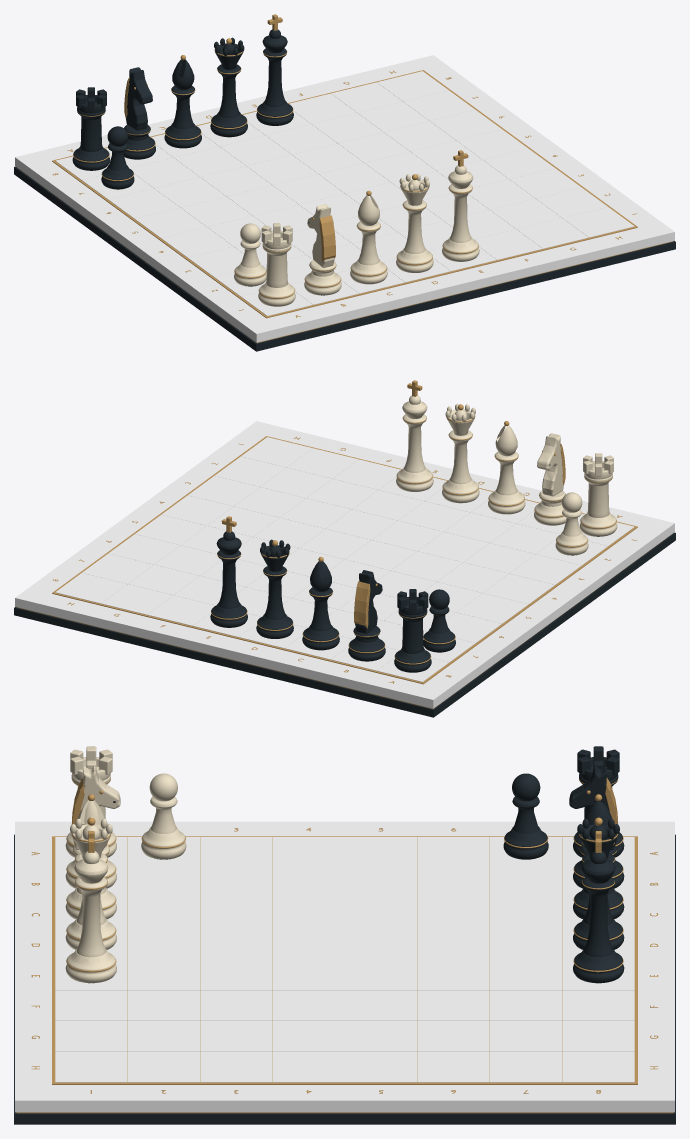
File: chess-set.glb
3 views of the same model, one above another, from view 1: azimuth 30°, elevation 25°; view 2: azimuth 150°, elevation 25°; view 3: azimuth 270°, elevation 25° (orthographic). The views are drawn at different scales.
Parts seen in each view (by area): view 1: Solid walnut frame, Lower plinth, Inlaid brass surround, White Knight | b1, White Rook | a1, Black Queen | d8, White Queen | d1, Black Rook | a8, Black King | e8, White King | e1, Black Knight | b8, White Bishop | c1 (+64 smaller); view 2: Solid walnut frame, Lower plinth, Inlaid brass surround, Black Knight | b8, Black Rook | a8, White Queen | d1, Black Queen | d8, White Rook | a1, White King | e1, Black King | e8, White Knight | b1, White Bishop | c1 (+64 smaller); view 3: Solid walnut frame, Lower plinth, Inlaid brass surround, Black King | e8, White King | e1, Black Pawn | a7, White Pawn | a2, Square h1, Square h2, Square h3, Square h4, Square h5 (+68 smaller).
Part boxes in pixels (x1,y1,x2,y2): Solid walnut frame: [15, 55, 674, 342]; Lower plinth: [14, 166, 675, 351]; Inlaid brass surround: [52, 70, 637, 318]; White Knight | b1: [304, 204, 341, 295]; White Rook | a1: [258, 223, 295, 306]; Black Queen | d8: [210, 37, 247, 137]; White Queen | d1: [396, 173, 433, 272]; Black Rook | a8: [72, 87, 109, 170]; Black King | e8: [256, 14, 293, 125]; White King | e1: [442, 150, 479, 261]; Black Knight | b8: [123, 67, 155, 159]; White Bishop | c1: [350, 191, 387, 284]; Solid walnut frame: [15, 421, 674, 708]; Lower plinth: [14, 532, 675, 717]; Inlaid brass surround: [52, 436, 637, 684]; Black Knight | b8: [348, 570, 385, 661]; Black Rook | a8: [394, 589, 431, 672]; White Queen | d1: [442, 403, 479, 503]; Black Queen | d8: [256, 539, 293, 638]; White Rook | a1: [580, 453, 617, 536]; White King | e1: [396, 380, 433, 491]; Black King | e8: [210, 516, 247, 627]; White Knight | b1: [534, 433, 566, 525]; White Bishop | c1: [488, 421, 525, 514]; Solid walnut frame: [15, 821, 674, 1112]; Lower plinth: [14, 834, 675, 1124]; Inlaid brass surround: [52, 836, 637, 1084]; Black King | e8: [573, 831, 624, 983]; White King | e1: [65, 831, 116, 983]; Black Pawn | a7: [503, 773, 548, 859]; White Pawn | a2: [141, 773, 186, 859]; Square h1: [55, 1051, 127, 1082]; Square h2: [127, 1051, 199, 1082]; Square h3: [200, 1051, 272, 1082]; Square h4: [272, 1051, 344, 1082]; Square h5: [345, 1051, 417, 1082].
Size of the model in its own units: 10.05 by 2.89 by 10.05.
